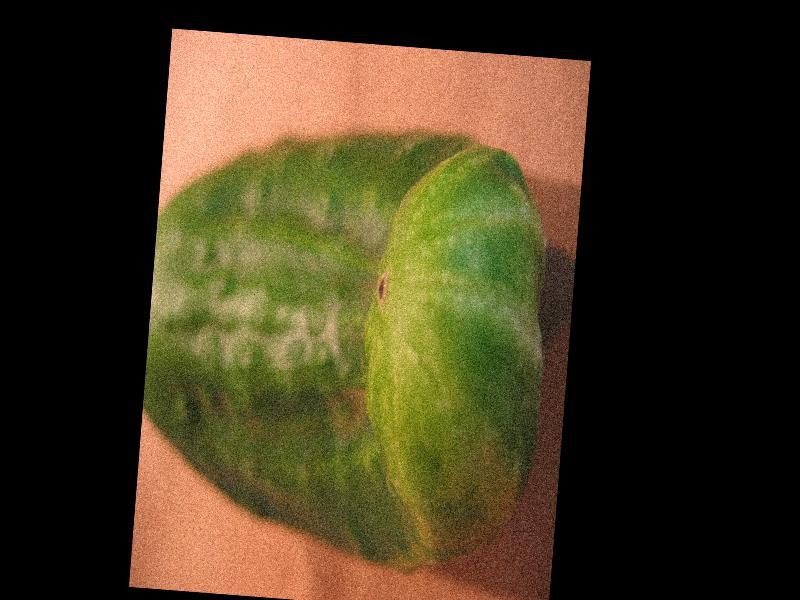Cucumber: (133, 110, 559, 578)
